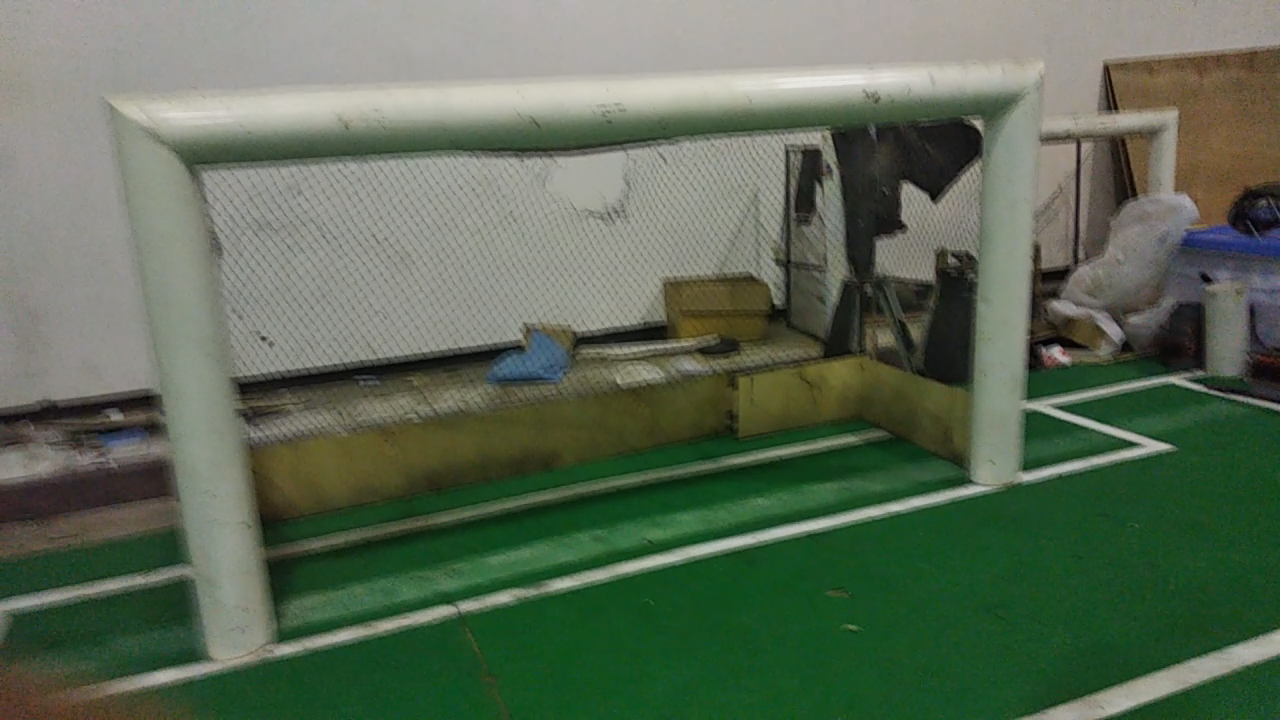gawang: (90, 67, 1063, 676)
